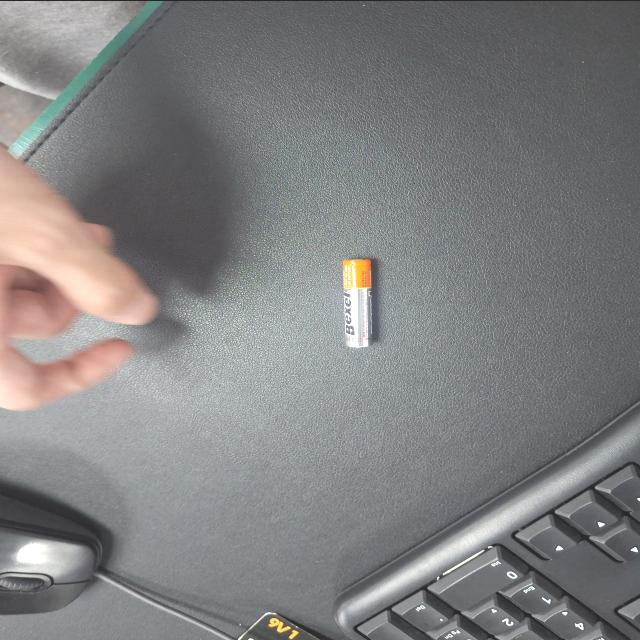AAA: (391, 418, 508, 438)
